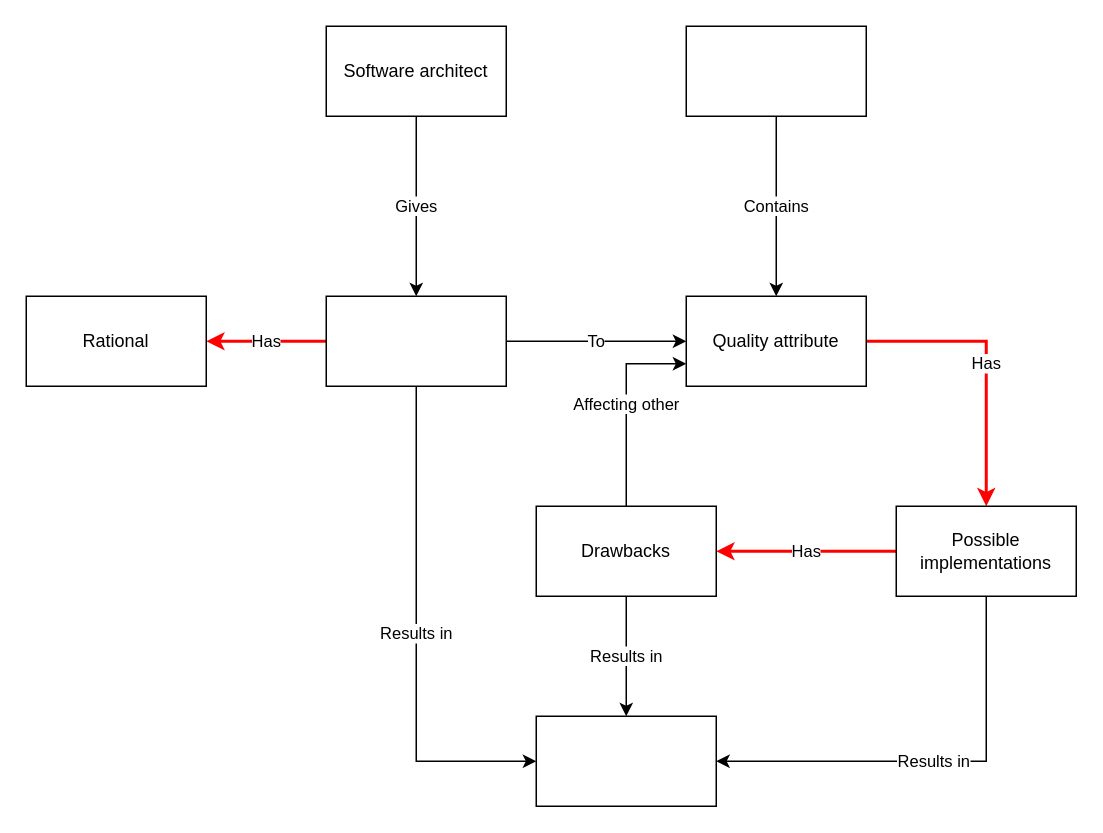
The diagram is 1103 pixels wide and 833 high, and some of its shapes have lost their labels. The centre of each missing label's shape, as x and y in pixels:
Priority: the point at 415,340
Quality attributes: the point at 775,70
Software architecture: the point at 625,760
